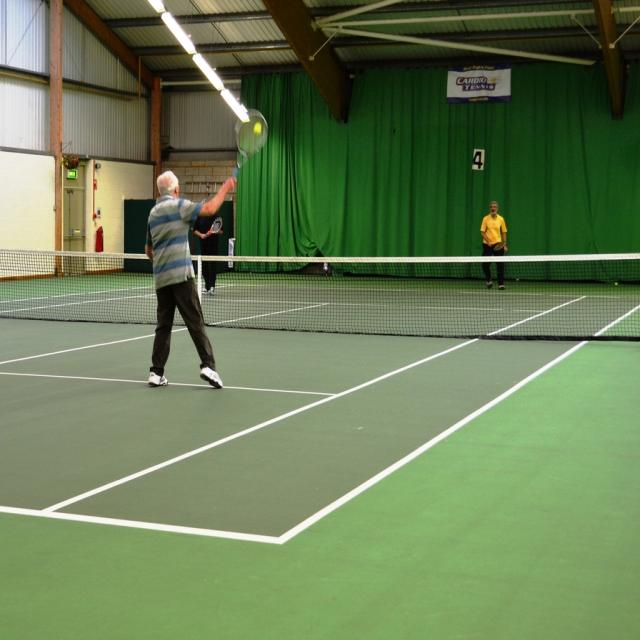Tennis ball: (254, 122, 261, 134)
